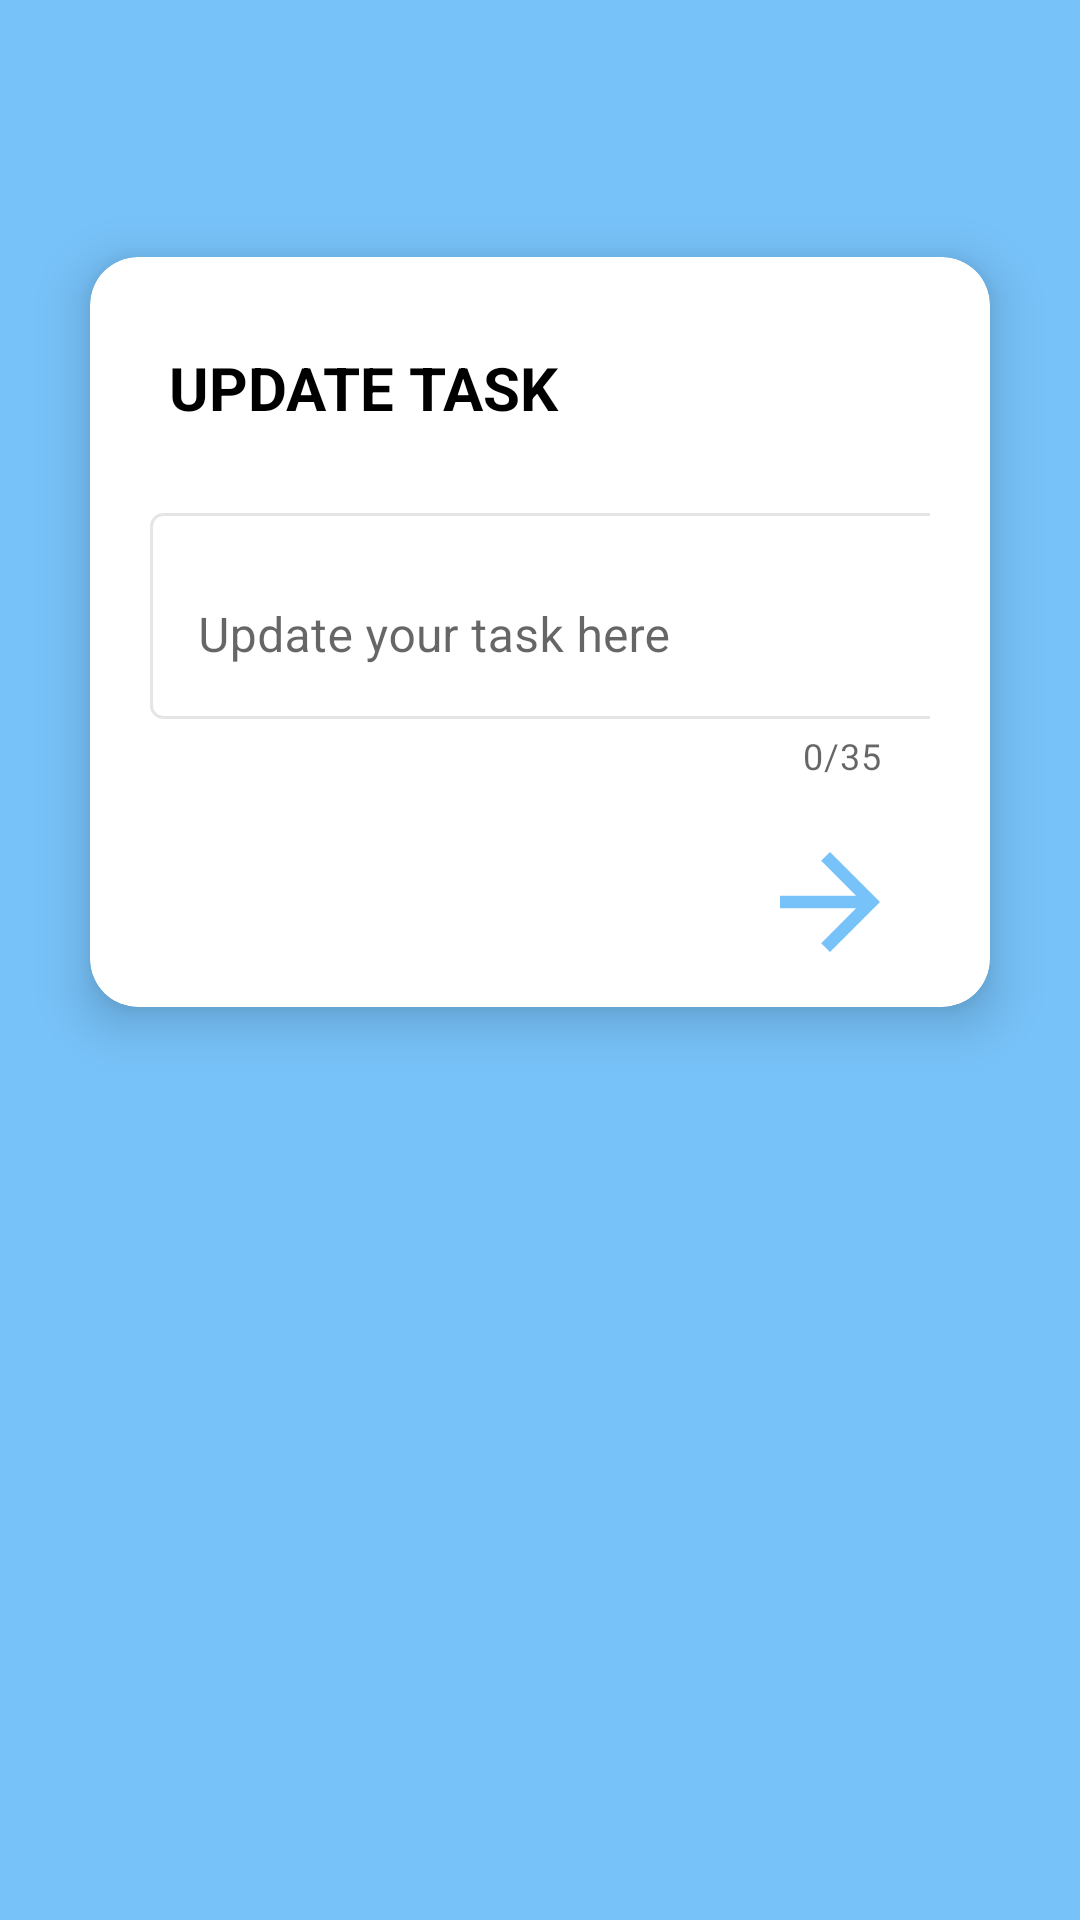

Screen size 1080w x 1920h. Icon name, then its center in pixels as (x,y):
arrow forward: (830,902)
